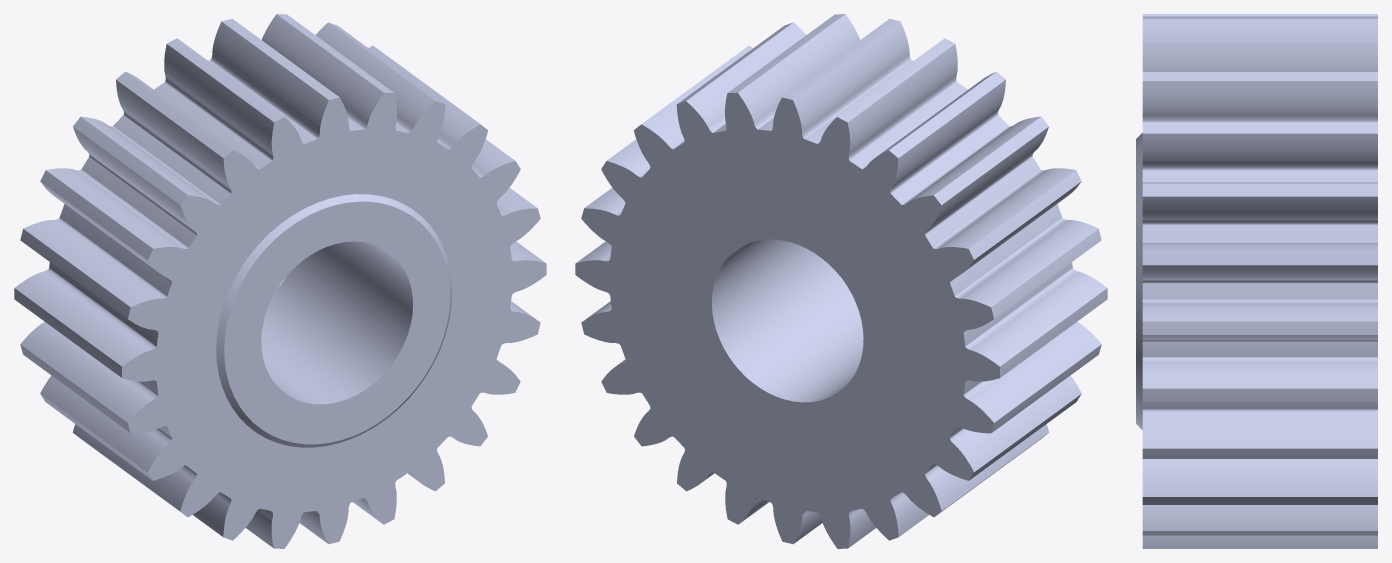
File: REV_21_2102_P05_5_solid1.obj
3 views of the same model, side by side, from view 1: azimuth 30°, elevation 25°; view 2: azimuth 150°, elevation 25°; view 3: azimuth 270°, elevation 25° (orthographic). The views are drawn at different scales.
Visible parts, largest first — view 1: mesh22131, mesh22128, mesh22130, mesh22182, mesh22175, mesh22178, mesh22203, mesh22185, mesh22172, mesh22166, mesh22200, mesh22188 (+25 smaller); view 2: mesh22132, mesh22130, mesh22182, mesh22175, mesh22178, mesh22203, mesh22185, mesh22172, mesh22166, mesh22200, mesh22188, mesh22169 (+22 smaller); view 3: mesh22187, mesh22140, mesh22137, mesh22190, mesh22143, mesh22184, mesh22193, mesh22134, mesh22197, mesh22196, mesh22181, mesh22198 (+24 smaller).
Boxes of the visible parts, x1,y1,x2,y2 form: mesh22131: (122,92,546,548); mesh22128: (224,201,450,444); mesh22130: (261,241,412,404); mesh22182: (210,21,328,138); mesh22175: (15,267,156,366); mesh22178: (20,322,158,422); mesh22203: (164,44,274,160); mesh22185: (262,14,383,129); mesh22172: (23,217,166,307); mesh22166: (40,375,171,471); mesh22200: (116,80,231,193); mesh22188: (315,22,435,132); mesh22132: (575,92,999,548); mesh22130: (712,239,863,402); mesh22182: (793,21,911,138); mesh22175: (965,267,1106,366); mesh22178: (963,322,1101,422); mesh22203: (847,44,957,160); mesh22185: (738,14,859,129); mesh22172: (955,217,1098,307); mesh22166: (950,375,1081,471); mesh22200: (890,80,1005,193); mesh22188: (686,22,806,132); mesh22169: (933,168,1075,248); mesh22187: (1142,81,1377,122); mesh22140: (1142,409,1377,448); mesh22137: (1142,459,1377,496); mesh22190: (1142,133,1377,170); mesh22143: (1142,356,1377,388); mesh22184: (1142,41,1377,71); mesh22193: (1142,196,1377,225); mesh22134: (1142,505,1377,530); mesh22197: (1142,299,1377,321); mesh22196: (1142,265,1377,283); mesh22181: (1142,19,1377,35); mesh22198: (1142,283,1377,299).
Bounding box in the file's own units: 0.0169 × 0.0169 × 0.00762.
